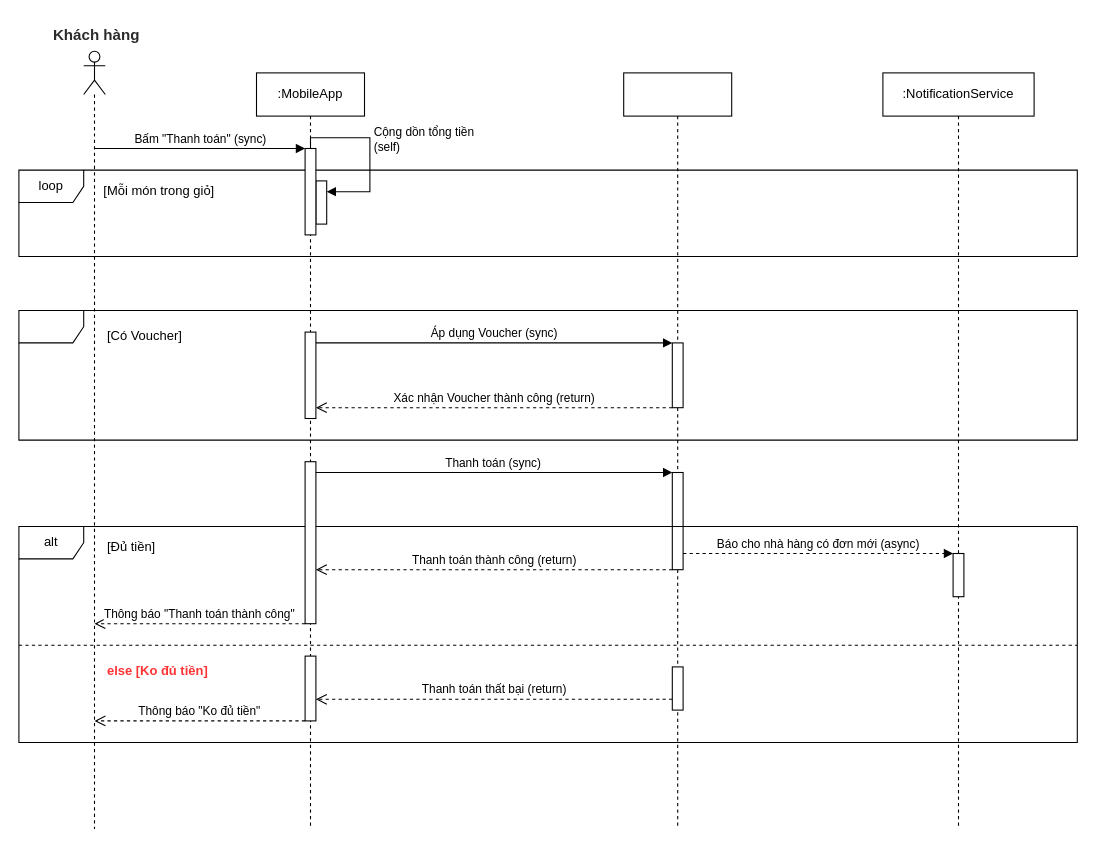
Image size: 1096x848. Some labels were removed from this diagram. The box of each missing label's shape, as (x1, y1, x2, y2) in pixels:
:PaymentService: (623, 72, 732, 829)
opt: (18, 309, 1077, 440)
